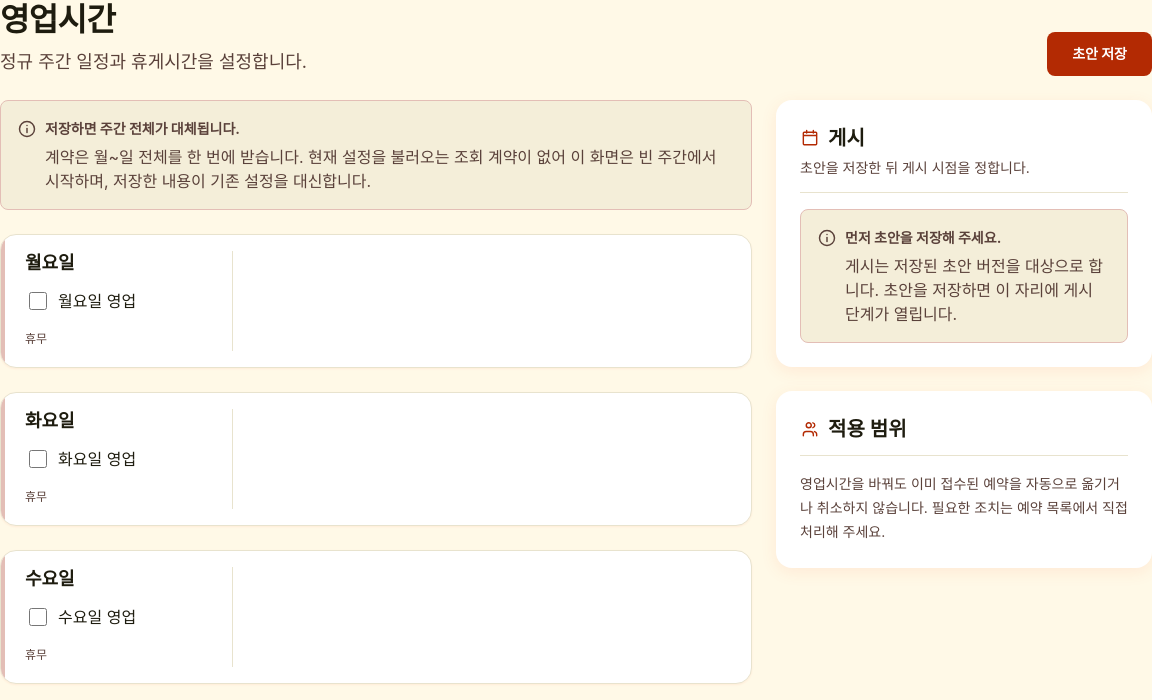
Test: 영업시간 화면 › 초안 저장은 게시가 아니며 상태를 초안으로 표시한다
The image size is (1152, 700).
Click the checkbox labelled "월요일 영업" at [38, 301], box [29, 292, 47, 310]
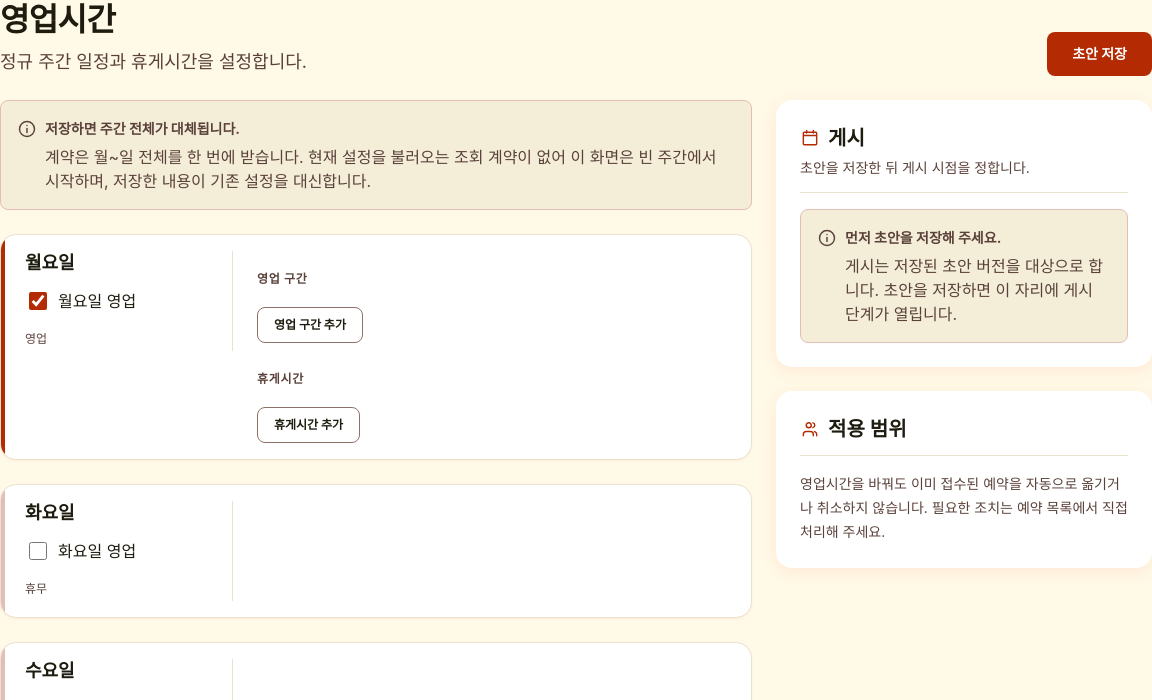
Click the button "영업 구간 추가" at [310, 325], box [257, 307, 363, 343]
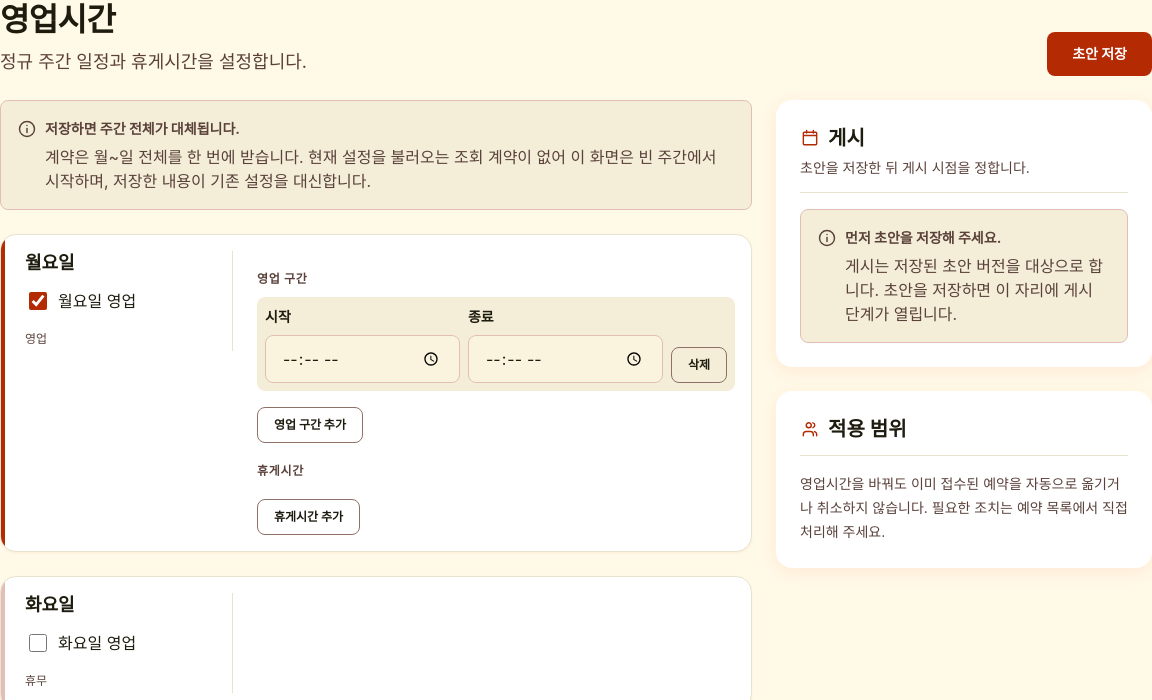
Type "09:00" into the time field labelled "시작" at [362, 359], box [265, 335, 460, 383]
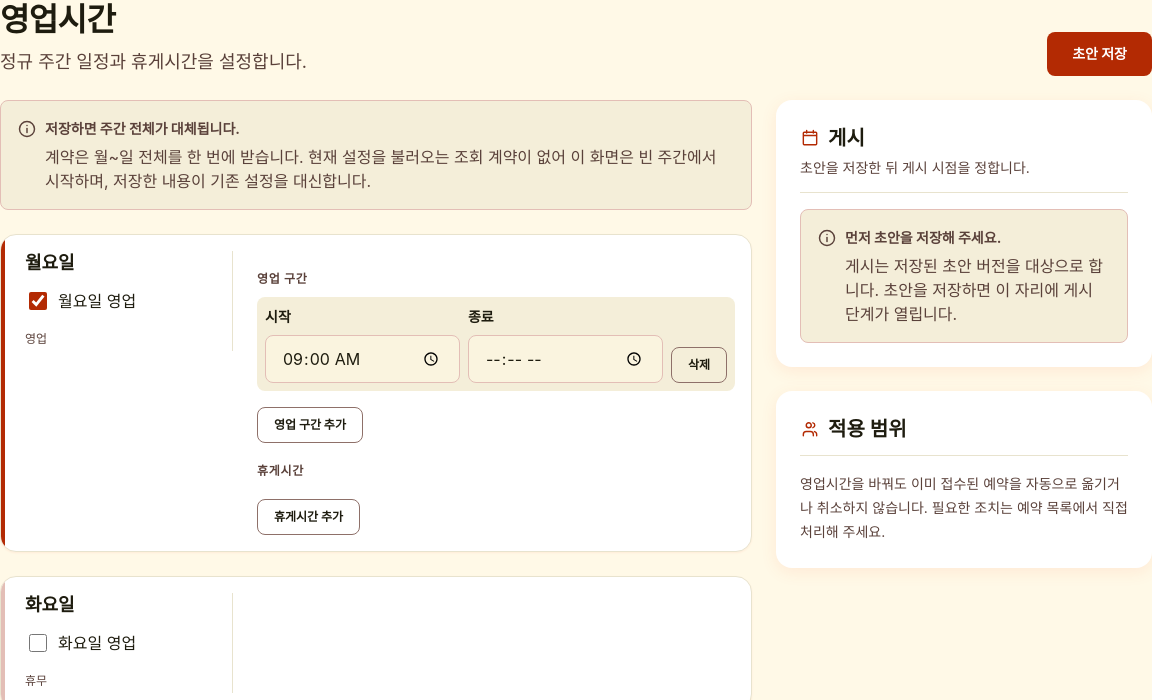
Type "22:00" into the time field labelled "종료" at [566, 359], box [468, 335, 663, 383]
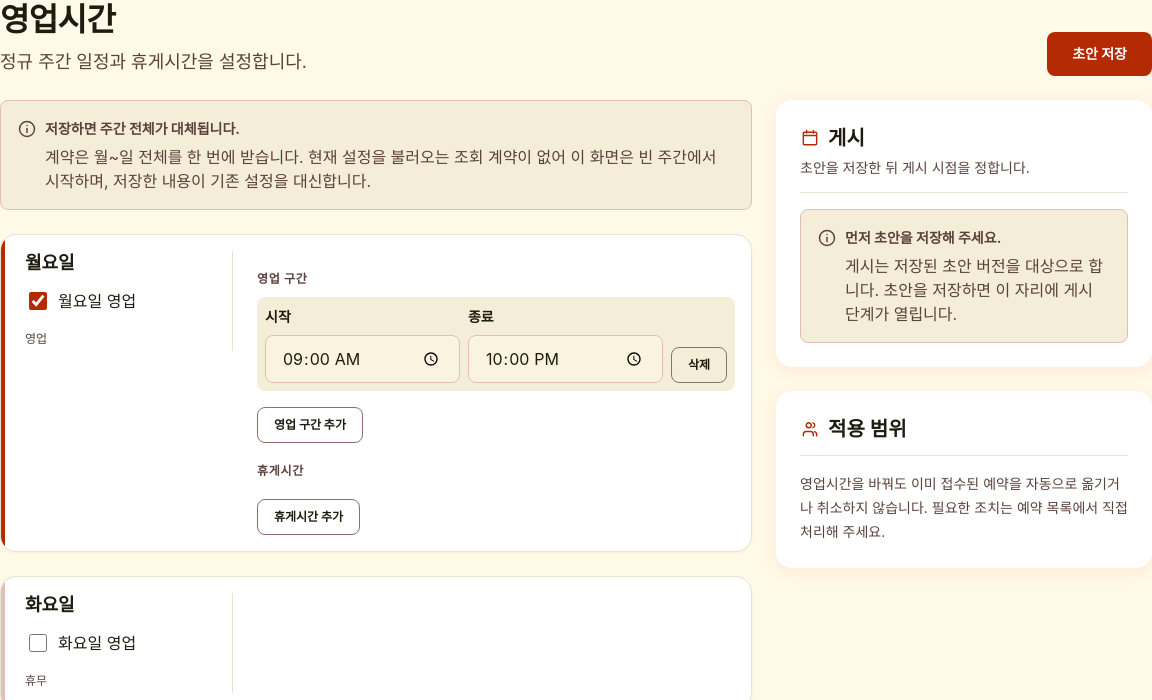
Click the button "초안 저장" at [1100, 54], box [1047, 32, 1151, 76]
(page scrolled)
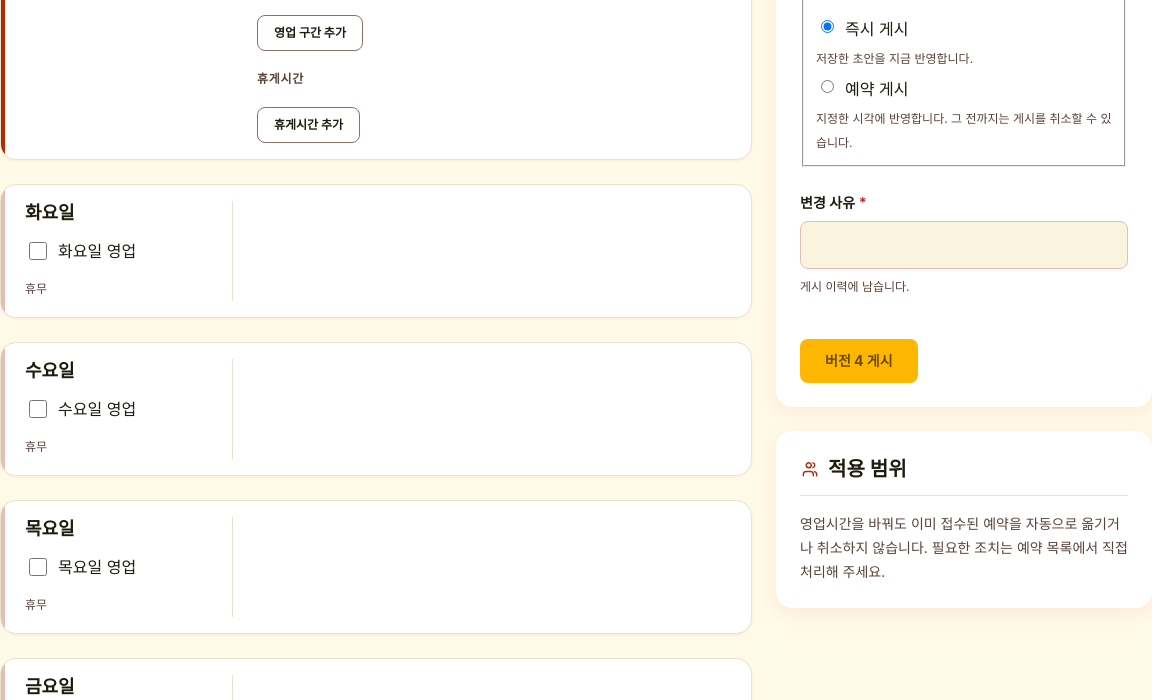
Now the button "버전 4 게시" is shown, box [800, 339, 918, 383]
